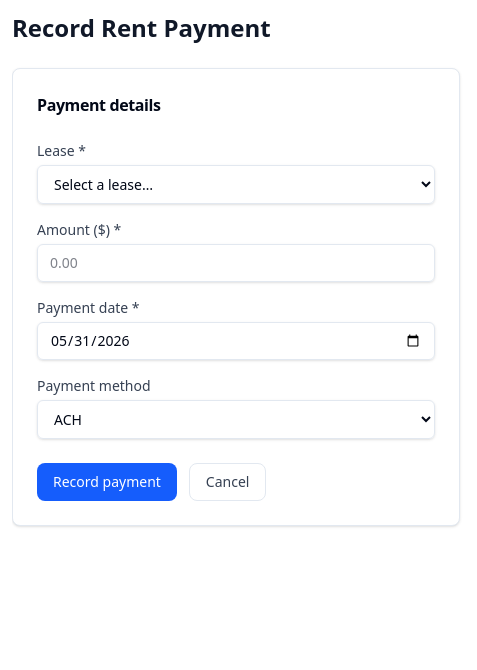
it: RentCollectionPage › shows E3 (lease-not-found) with generic message — DIAGNOSTIC-NON-LEAK invariant
The width and height of the screenshot is (477, 670).
Select "Maria Santos — 150 Lexington Ct ($1,250/mo)" in the dropdown labelled "Lease *" at (236, 184), box x1=37 y1=165 x2=435 y2=204
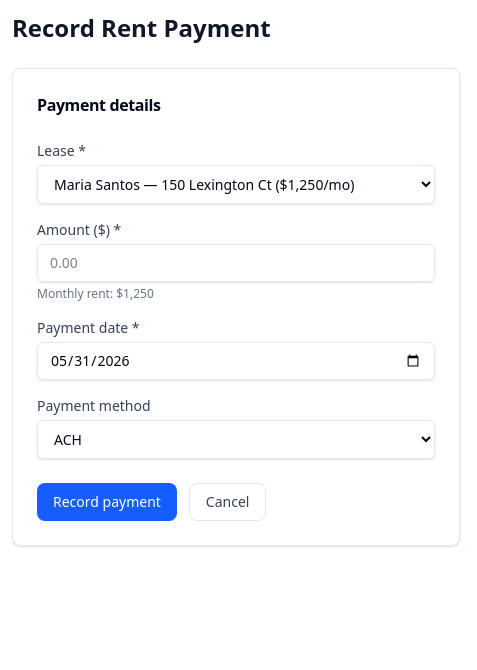
Type "1250" into the number field labelled "Amount ($) *" at (236, 263), box x1=37 y1=244 x2=435 y2=282
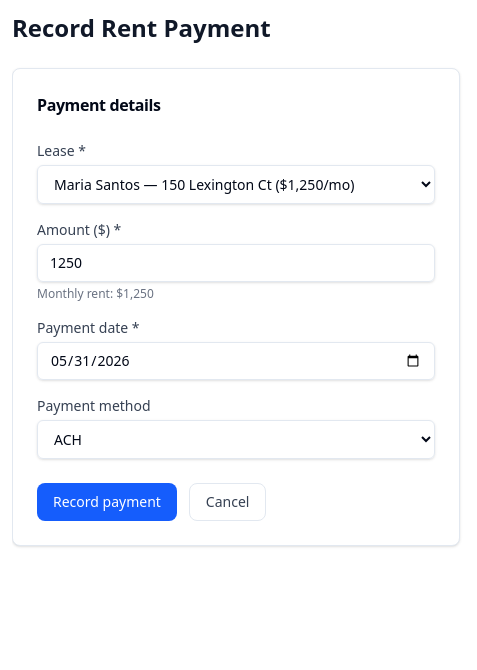
Submit the form named "record payment", box x1=37 y1=141 x2=435 y2=521
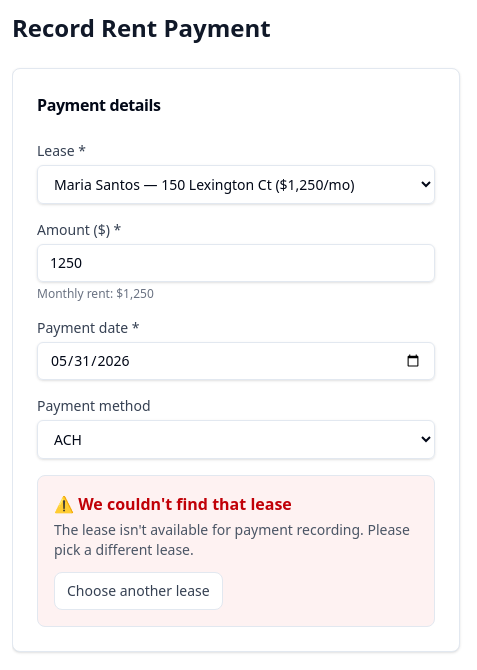
expect the message is shown: met, box x1=37 y1=475 x2=435 y2=627
expect the text "⚠ We couldn't find that lease" is shown: met, box x1=54 y1=493 x2=292 y2=515
expect the button "Choose another lease" is shown: met, box x1=54 y1=572 x2=223 y2=610
